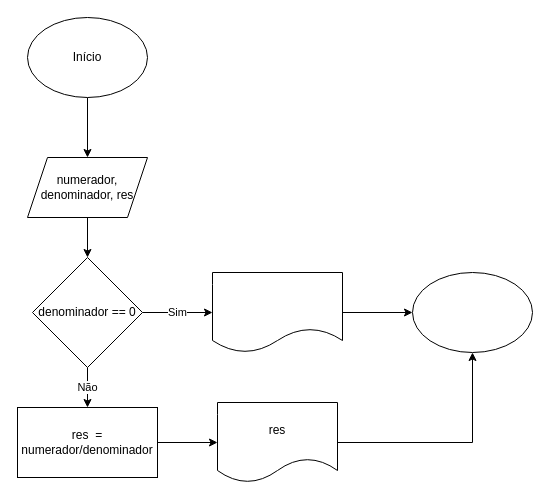
Image size: 550x500. Some labels were removed from this diagram. Here are the shapes that lost their labels. From the top down, the box of each, then its label:
(212, 272, 342, 352): Err(DivisaoPorZero)
(412, 272, 532, 352): Fim
